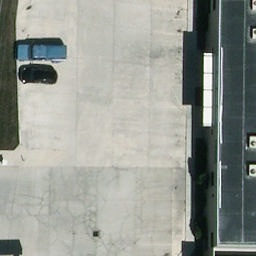car: (18, 65, 58, 85)
pickup: (17, 45, 69, 65)
